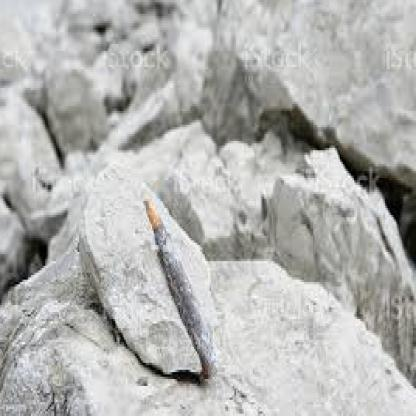Sedimentary_Chalk: (264, 134, 414, 379), (76, 155, 216, 388)
